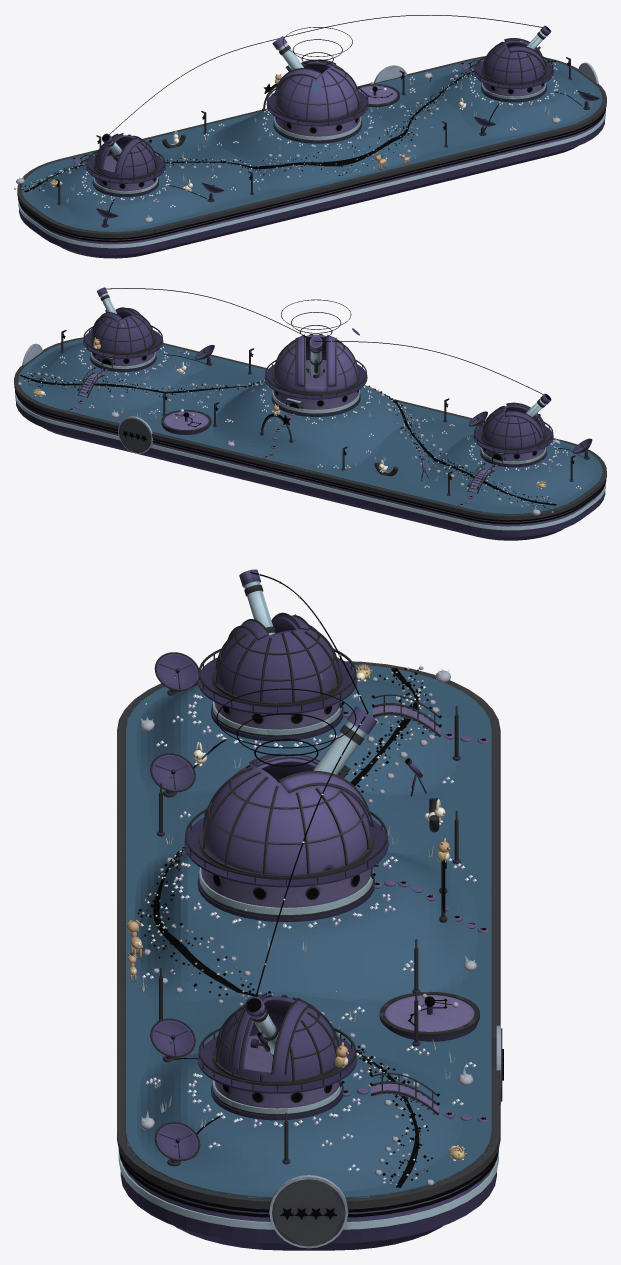
File: SM_Evo_DeepSpaceComm.fbx
3 renders of one model, top to bottom at view 1: azimuth 30°, elevation 25°; view 2: azimuth 150°, elevation 25°; view 3: azimuth 270°, elevation 25°, orthographic. The views are drawn at different scales.
Parts seen in each view (by area): view 1: SMN_Evo_DeepSpaceComm, Emblem_Fx_DeepSpaceComm, SpinDish_DeepSpaceCommDome; view 2: SMN_Evo_DeepSpaceComm, Emblem_Fx_DeepSpaceComm, SpinDish_DeepSpaceCommDome; view 3: SMN_Evo_DeepSpaceComm, SpinDish_DeepSpaceCommDome, Emblem_Fx_DeepSpaceComm.
Boxes of the visible parts, x1,y1,x2,y2 form: SMN_Evo_DeepSpaceComm: (14,25,606,258); Emblem_Fx_DeepSpaceComm: (18,14,605,242); SpinDish_DeepSpaceCommDome: (272,36,361,121); SMN_Evo_DeepSpaceComm: (14,287,606,540); Emblem_Fx_DeepSpaceComm: (15,288,606,524); SpinDish_DeepSpaceCommDome: (272,334,359,394); SMN_Evo_DeepSpaceComm: (117,569,502,1250); SpinDish_DeepSpaceCommDome: (199,706,377,876); Emblem_Fx_DeepSpaceComm: (118,572,503,1219).
Bounding box in the file's own units: 2.86 × 0.6812 × 0.8635.
